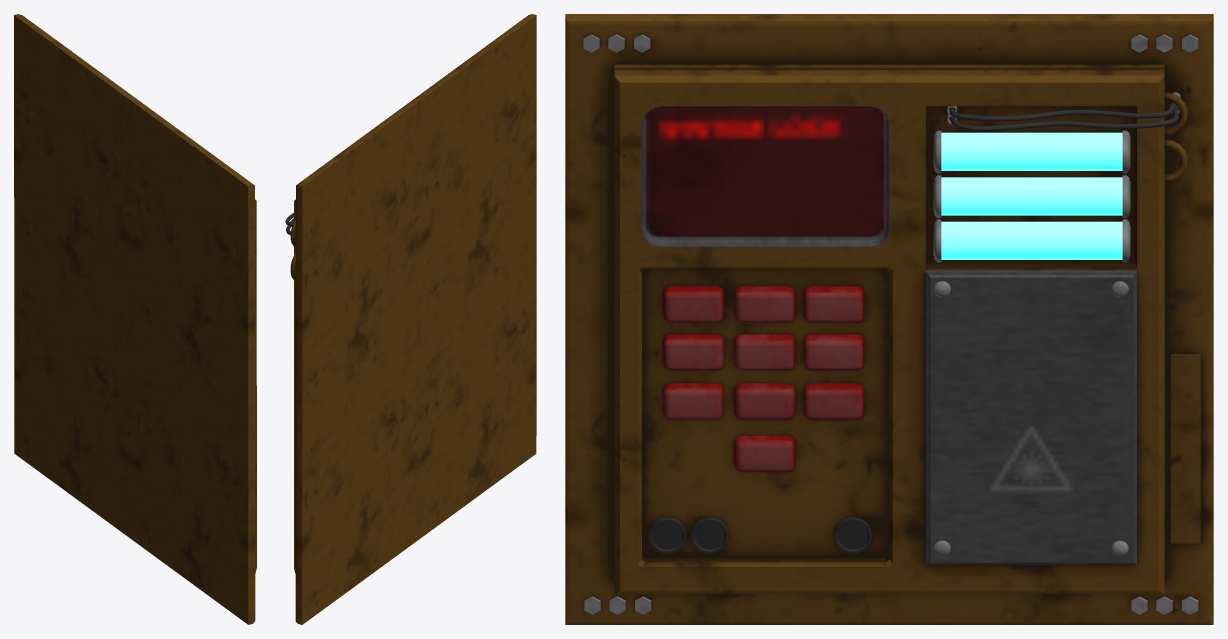
The picture shows the model from 3 angles, left to right: view 1: azimuth 30°, elevation 25°; view 2: azimuth 150°, elevation 25°; view 3: azimuth 270°, elevation 25°; orthographic projection. The views are drawn at different scales.
Parts seen in each view (by area): view 1: Base; view 2: Base; view 3: Base, pCylinder6, pCylinder4, pCylinder5, Bolts, pCube9, pCube12, pCube3, pCube6, pCube8, pCube4, pCube2 (+9 smaller).
Boxes of the visible parts, bbox=[...] form: Base: bbox=[14, 14, 256, 624]; Base: bbox=[294, 14, 536, 624]; Base: bbox=[565, 14, 1213, 624]; pCylinder6: bbox=[933, 219, 1130, 262]; pCylinder4: bbox=[933, 130, 1130, 173]; pCylinder5: bbox=[933, 175, 1130, 217]; Bolts: bbox=[583, 34, 1198, 614]; pCube9: bbox=[733, 383, 795, 420]; pCube12: bbox=[733, 435, 795, 472]; pCube3: bbox=[733, 286, 795, 323]; pCube6: bbox=[733, 334, 795, 371]; pCube8: bbox=[803, 383, 864, 420]; pCube4: bbox=[803, 286, 864, 323]; pCube2: bbox=[662, 286, 723, 323].
Bounding box in the file's own units: 0.0386 × 0.3853 × 0.3727.
Materials: 1 (1 with a texture image).
